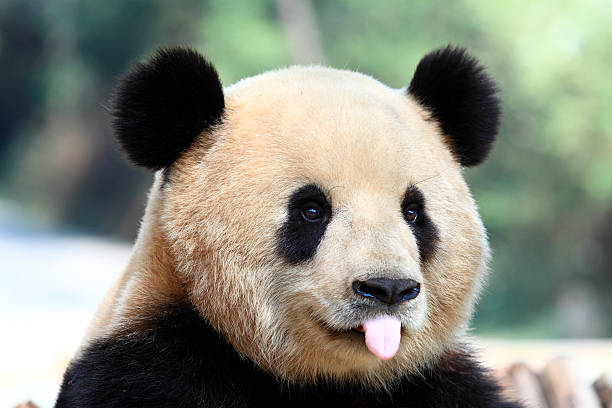panda: (89, 27, 532, 407)
